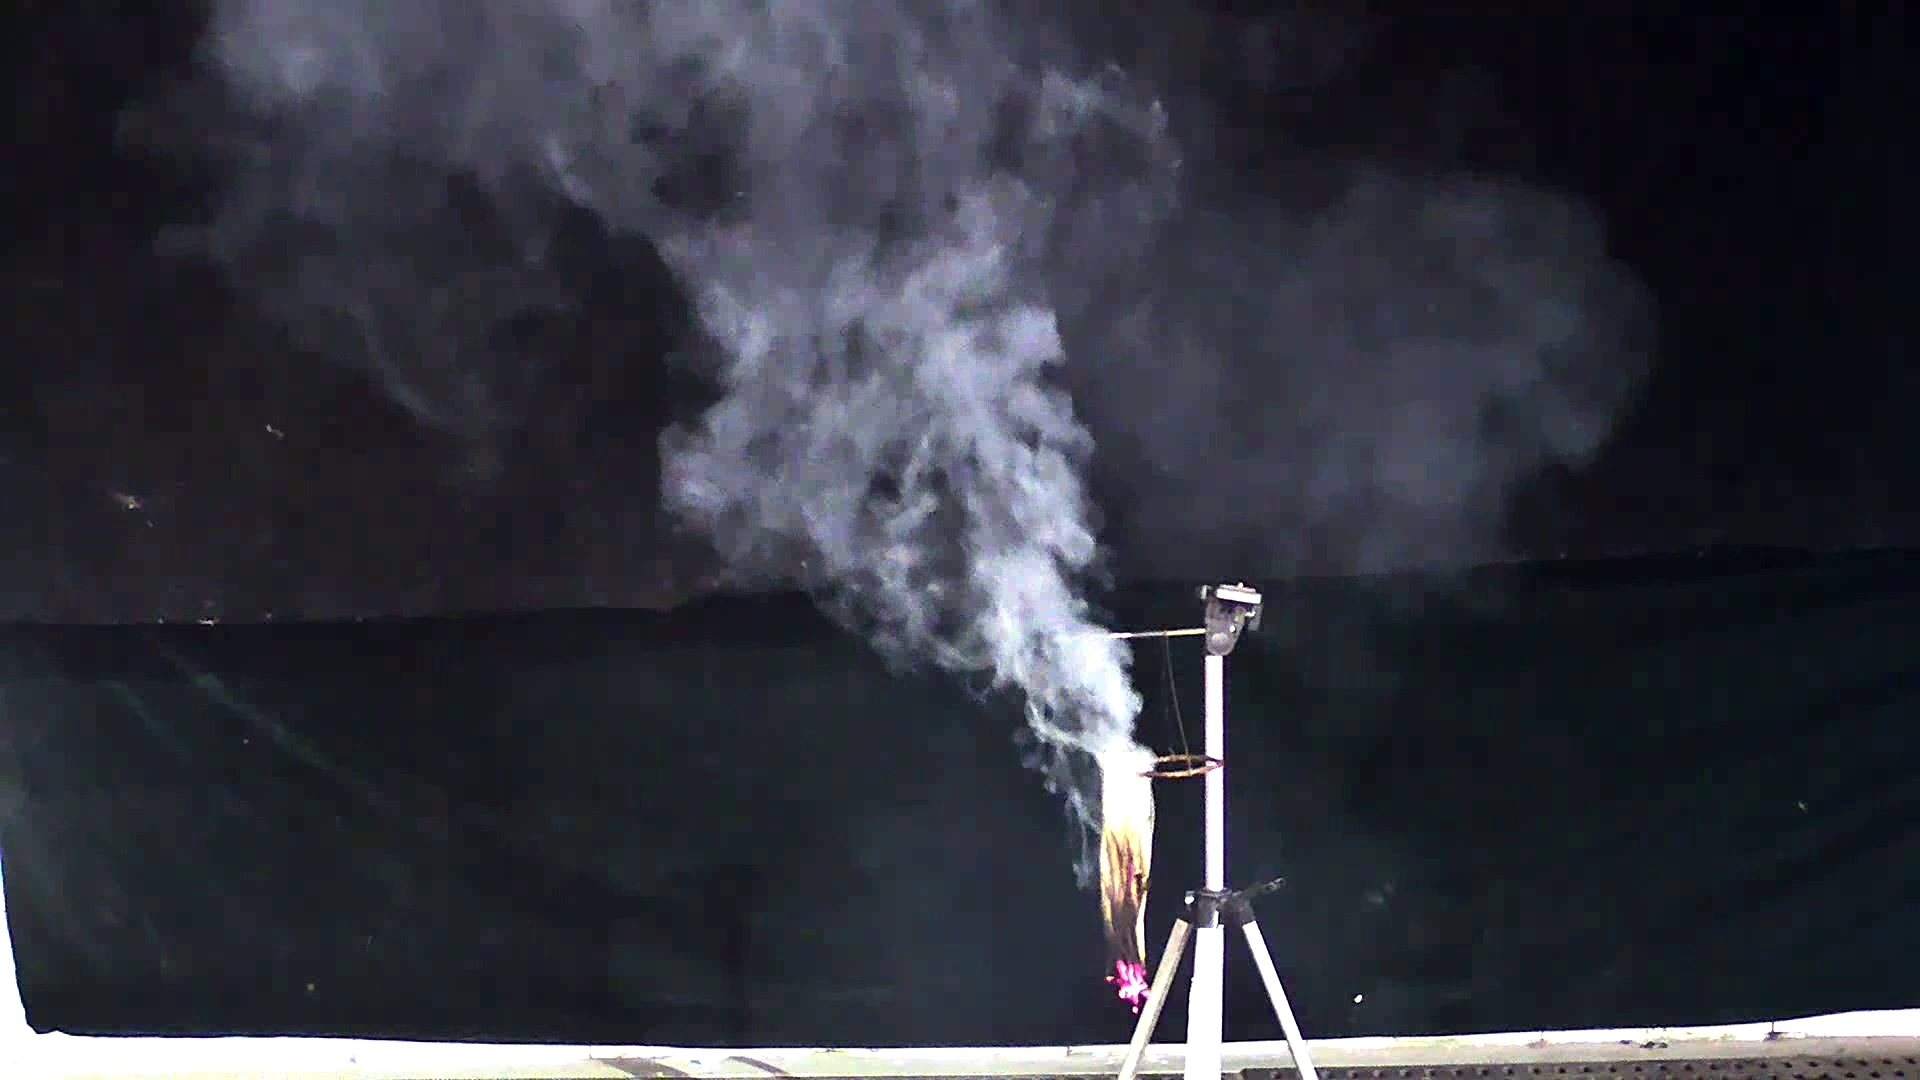smoke: (502, 69, 1179, 870)
